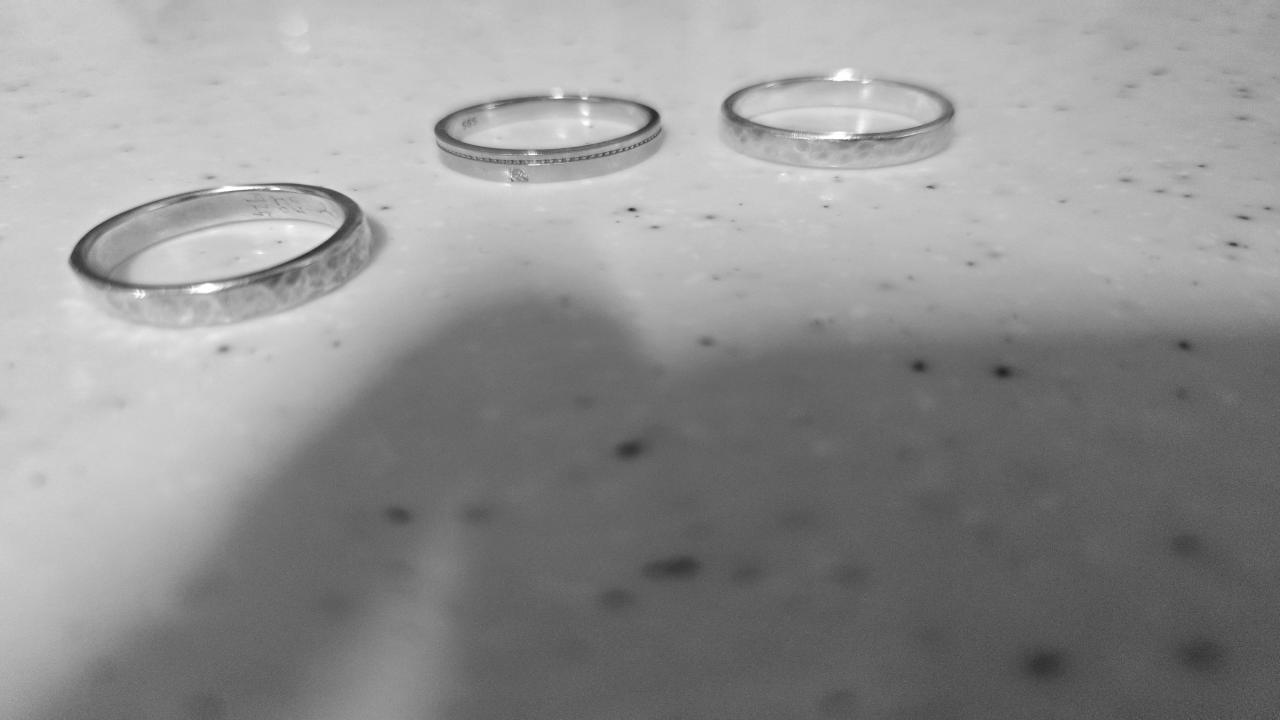ring: (71, 183, 371, 327), (720, 74, 956, 170), (433, 93, 661, 184)
